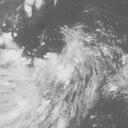cyclone: (6, 47, 87, 112)
